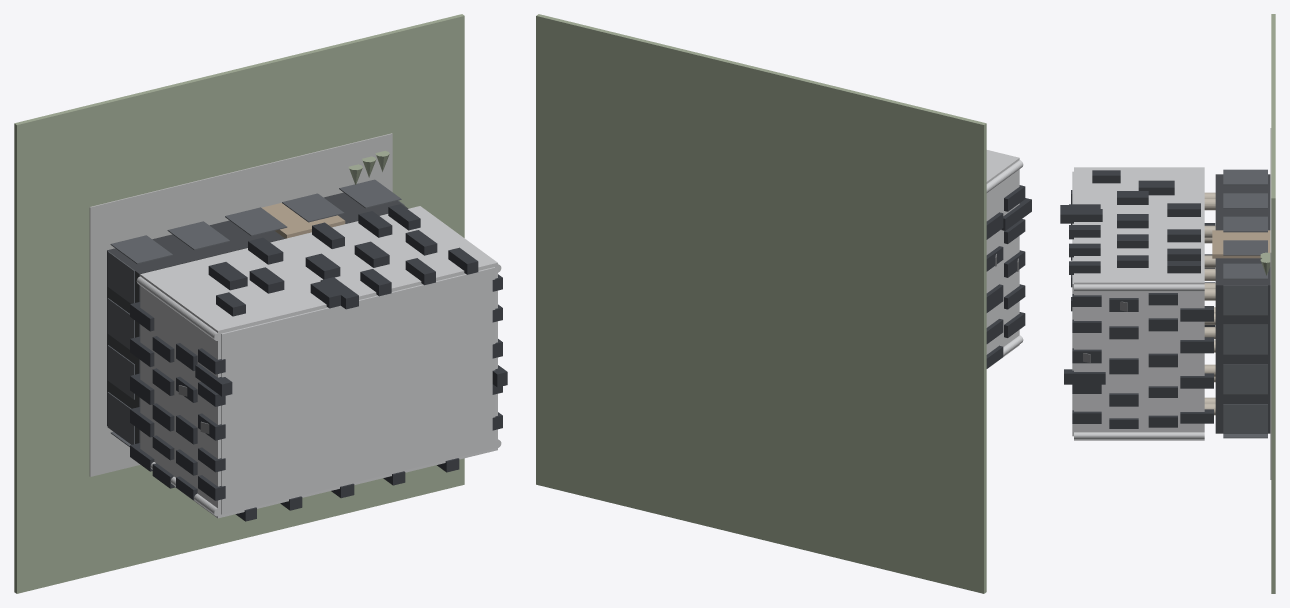
The model's file is edificio_ventanas_negras.glb.
3 views of the same model, side by side, from view 1: azimuth 30°, elevation 25°; view 2: azimuth 150°, elevation 25°; view 3: azimuth 270°, elevation 25° (orthographic). The views are drawn at different scales.
Visible parts, largest first — view 1: ground, roof, main_block, paving, lobby_shadow, wood_wall, front_glass_1, front_glass_2, front_glass_0, front_glass_4, front_glass_3, left_glass_3 (+9 smaller); view 2: ground, main_block; view 3: main_block, lobby_shadow, ground, right_glass_1, right_glass_2, right_glass_3, right_glass_0, corner_2, corner_3, wood_wall, front_glass_0, front_glass_2 (+38 smaller).
Boxes of the visible parts, x1,y1,x2,y2 form: ground: [14, 14, 464, 593]; roof: [221, 267, 495, 514]; main_block: [140, 206, 497, 518]; paving: [89, 133, 392, 476]; lobby_shadow: [107, 192, 408, 443]; wood_wall: [261, 203, 345, 238]; front_glass_1: [167, 221, 229, 250]; front_glass_2: [225, 207, 287, 236]; front_glass_0: [110, 235, 172, 264]; front_glass_4: [339, 179, 401, 208]; front_glass_3: [282, 193, 344, 222]; left_glass_3: [107, 251, 134, 303]; ground: [536, 14, 986, 593]; main_block: [986, 150, 1019, 368]; main_block: [1074, 167, 1204, 440]; lobby_shadow: [1215, 174, 1270, 433]; ground: [1271, 14, 1275, 593]; right_glass_1: [1223, 364, 1267, 394]; right_glass_2: [1223, 324, 1267, 354]; right_glass_3: [1223, 285, 1267, 315]; right_glass_0: [1223, 404, 1267, 433]; corner_2: [1074, 432, 1204, 439]; corner_3: [1074, 284, 1204, 291]; wood_wall: [1212, 230, 1270, 258]; front_glass_0: [1223, 169, 1267, 185]; front_glass_2: [1223, 216, 1267, 232].
Size of the model in its own units: 20 by 20 by 9.88.
